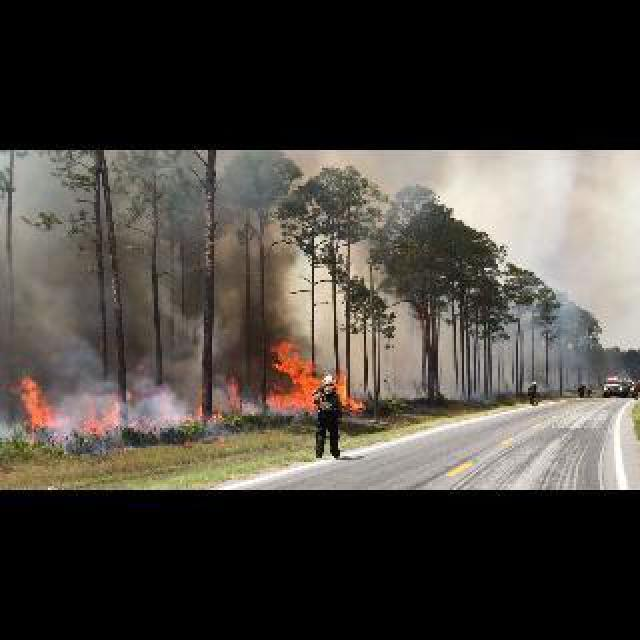Fire: (256, 340, 322, 410), (16, 362, 59, 442), (336, 372, 366, 408)
